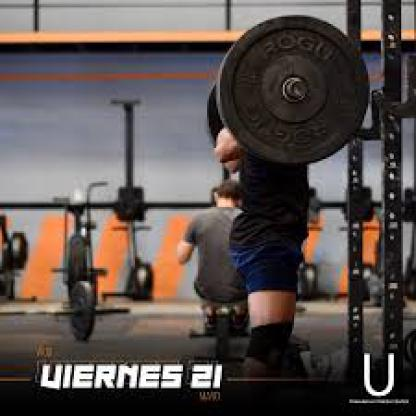Barbell: (216, 10, 378, 172)
